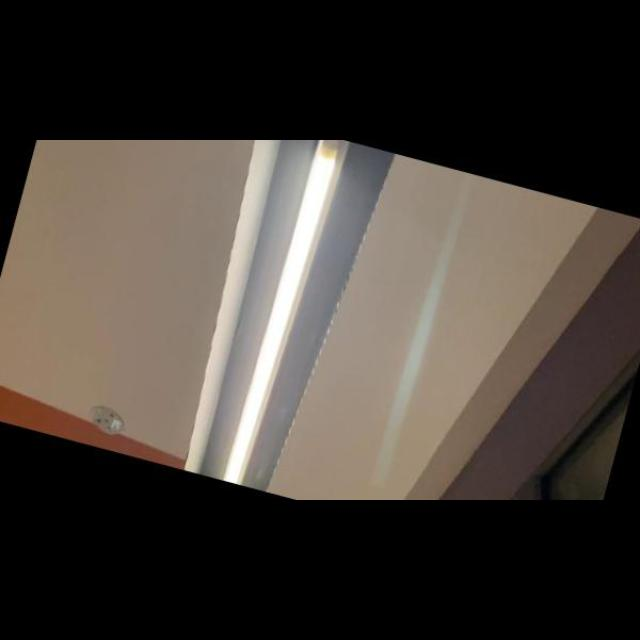Straight-Tube-Fluorescent-Lamp: (198, 140, 374, 500)
